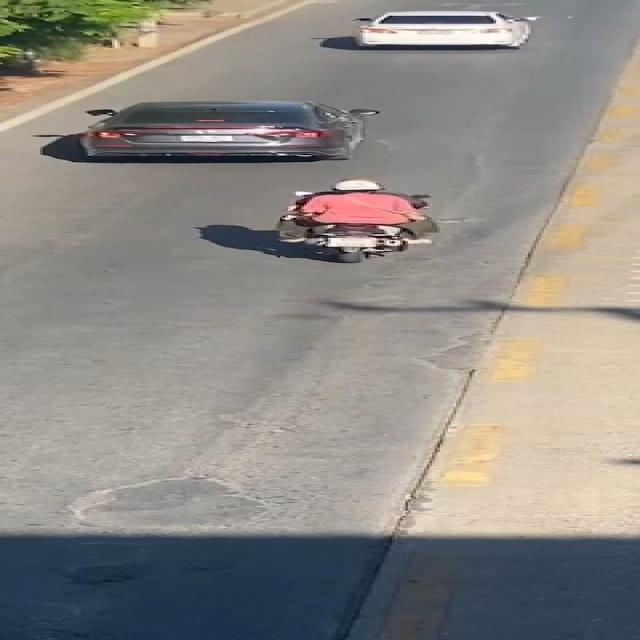car: (46, 94, 427, 168), (332, 1, 556, 66)
